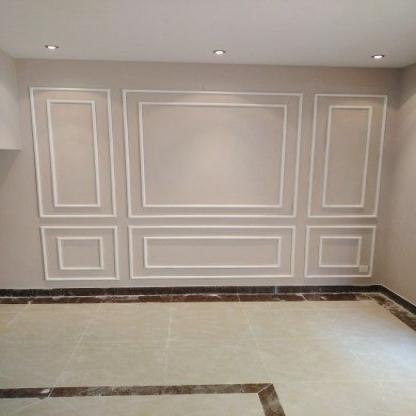Futec frame: (28, 88, 392, 222), (40, 223, 382, 288)
